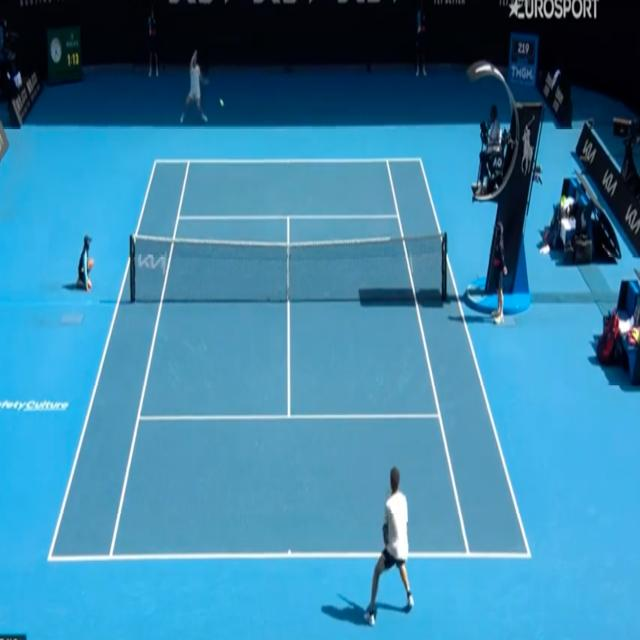ball: (219, 97, 225, 108)
